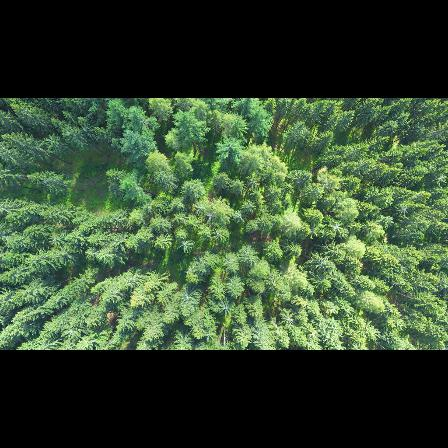Sick: (179, 289, 196, 307), (330, 221, 347, 237), (62, 326, 79, 342), (176, 238, 195, 252), (218, 302, 234, 318), (394, 203, 411, 214), (232, 211, 245, 224), (203, 212, 217, 224)
